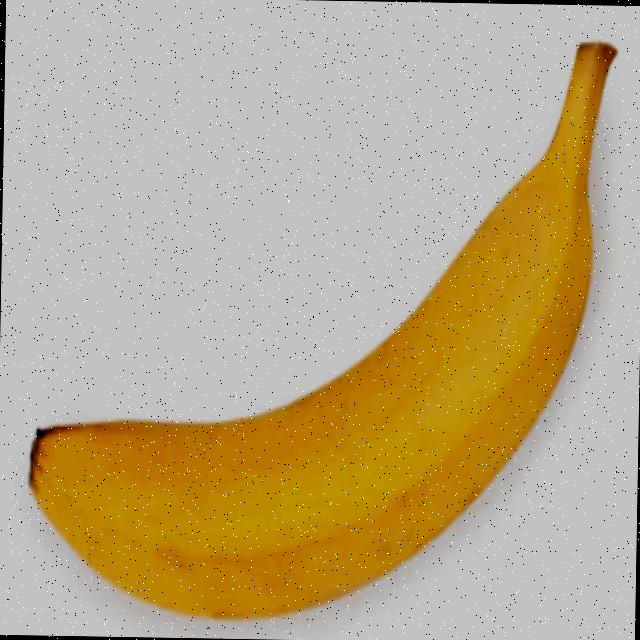Ripe: (0, 15, 630, 630)
